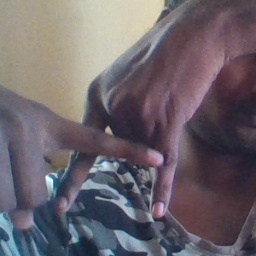H: (45, 82, 180, 221)
